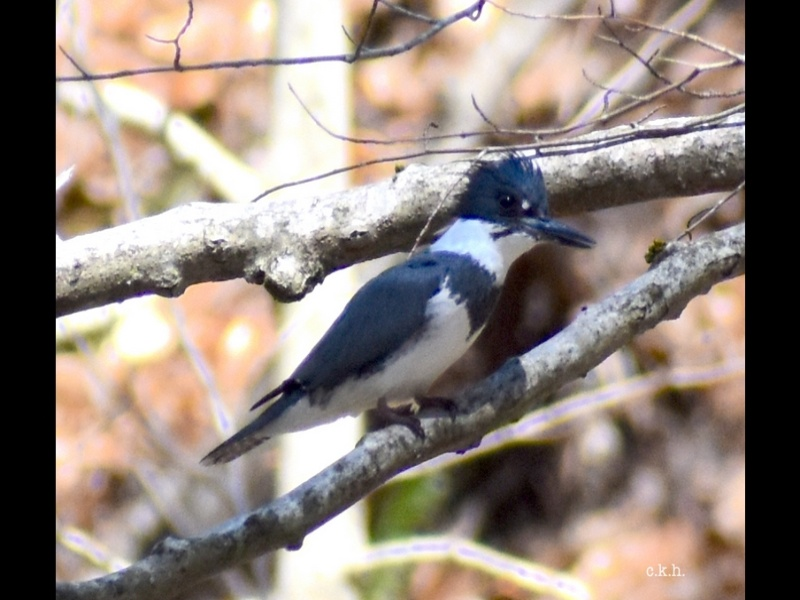kingfisher: (194, 148, 596, 482)
